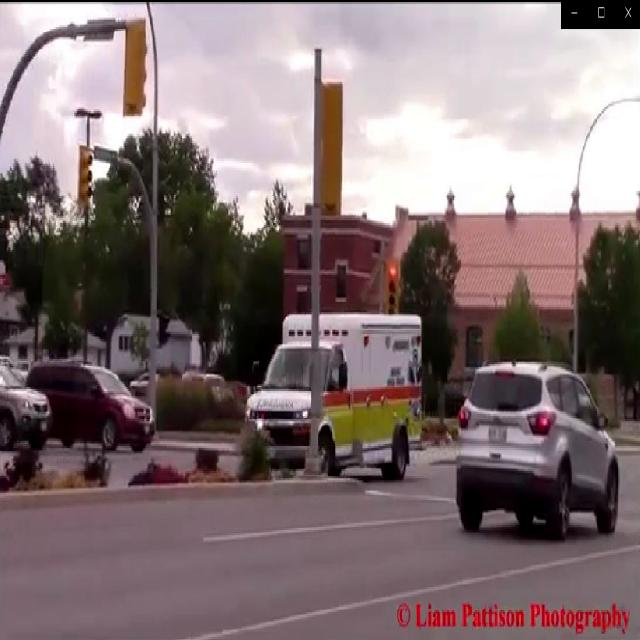emergency: (237, 304, 429, 487)
